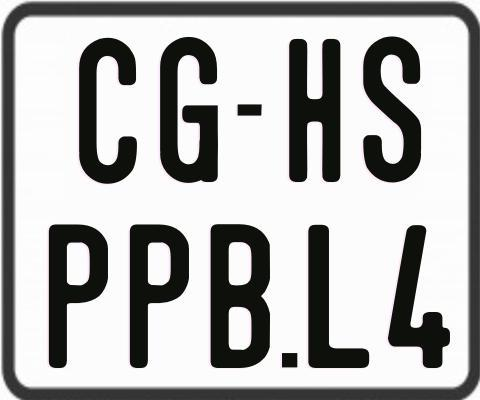4: (385, 224, 448, 367)
B: (209, 224, 272, 369)
C: (77, 35, 136, 186)
G: (159, 35, 218, 184)
H: (287, 37, 344, 185)
L: (307, 224, 369, 367)
P: (130, 222, 190, 371), (49, 222, 108, 368)
S: (363, 36, 425, 182)
